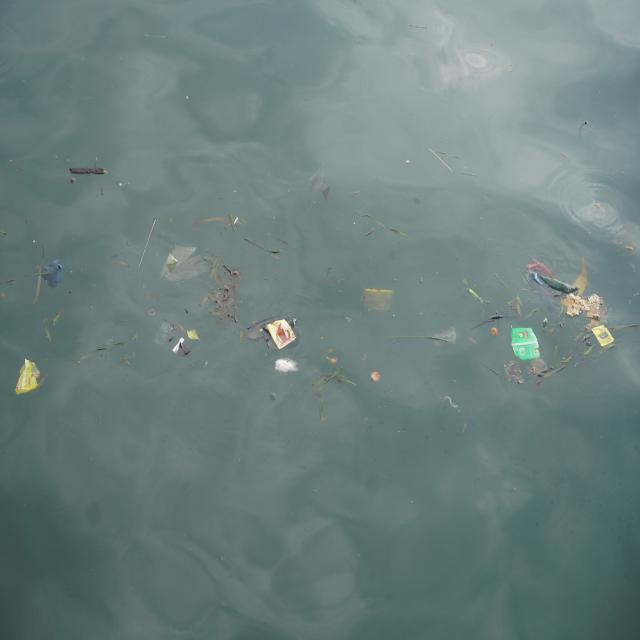Bungkus Makanan: (510, 324, 542, 362)
Bungkus Minuman: (267, 320, 298, 349), (593, 325, 615, 348)
Kantong Plastik: (526, 258, 581, 309), (163, 245, 210, 286), (41, 259, 67, 289)
